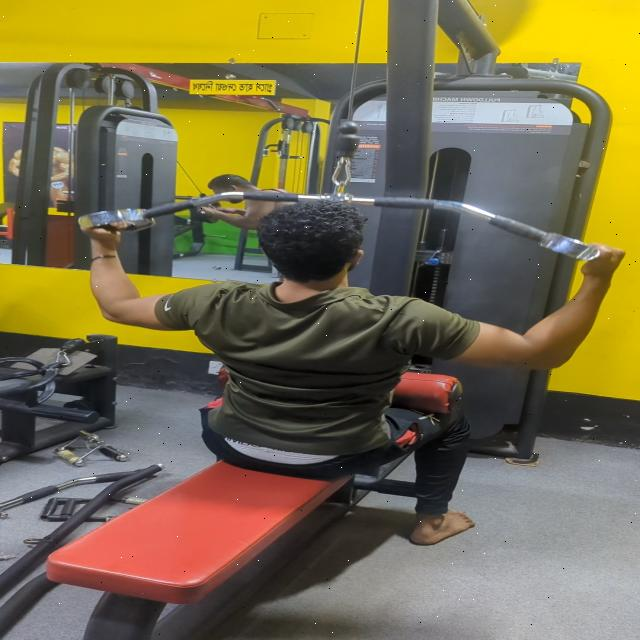Normal_LatPulldown: (0, 145, 613, 640)
